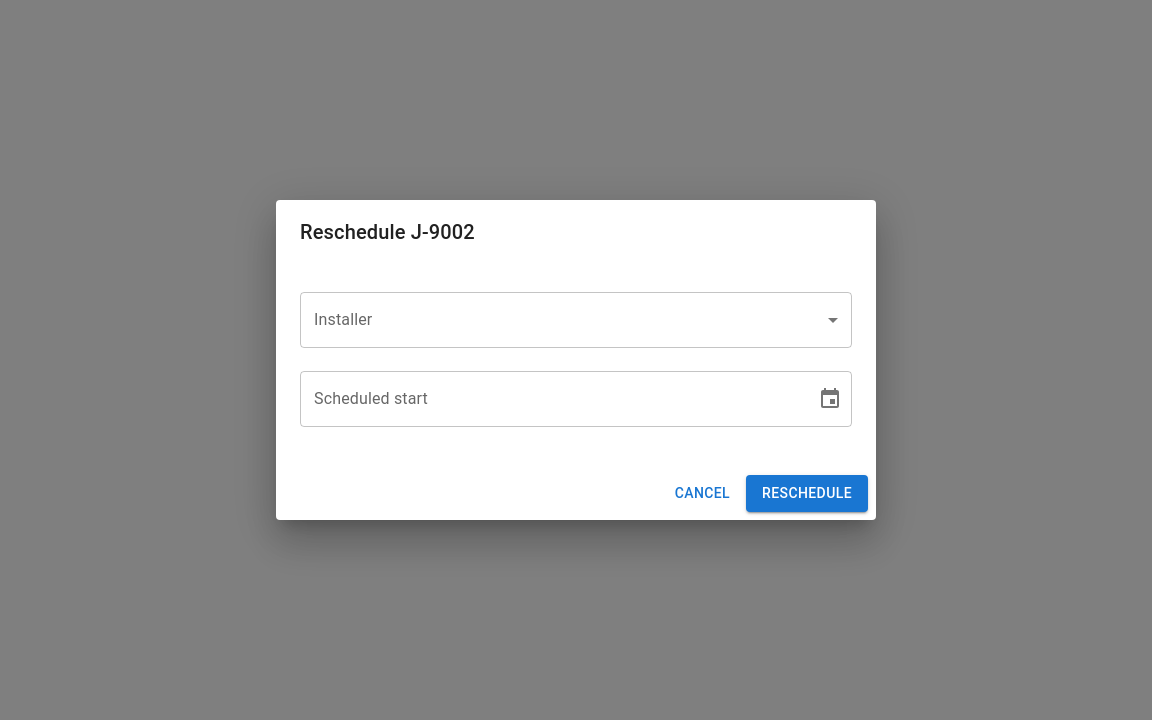
Test: RescheduleDialog validation › rejects submission when neither installer nor time is set, with a form-level message
Click the button "Reschedule": (807, 494) 746,475 -> 868,512
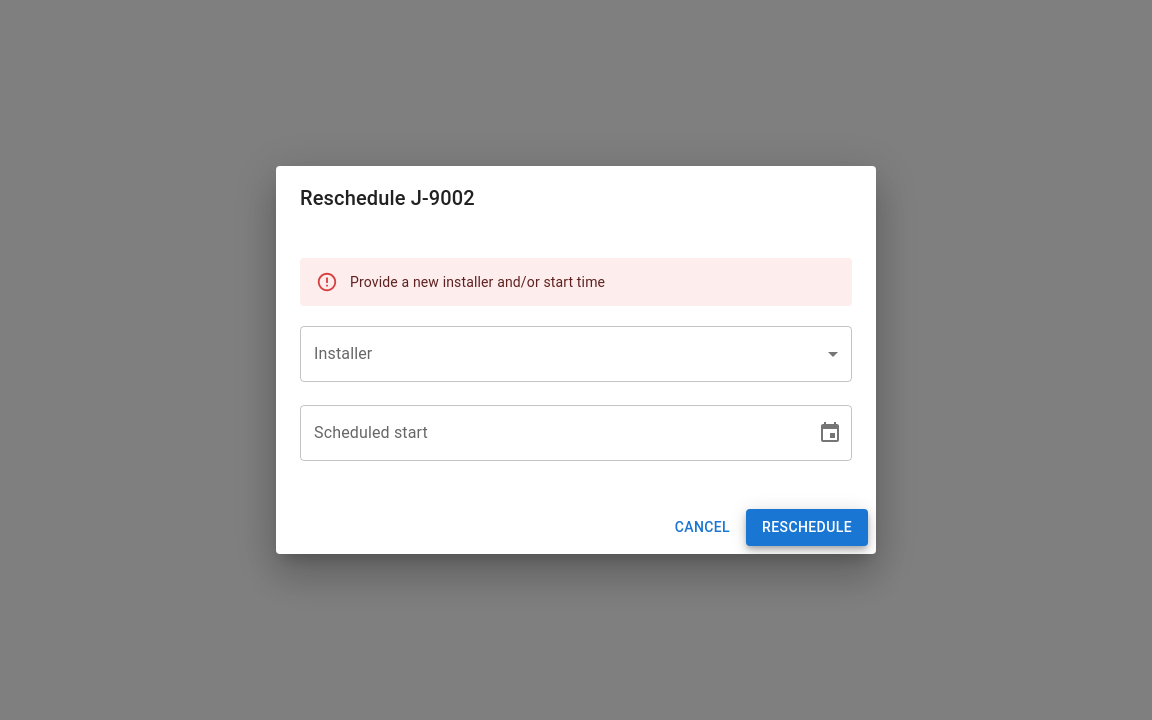
expect the text "Provide a new installer and/or start time" is shown: met, box 350,274 -> 605,290
